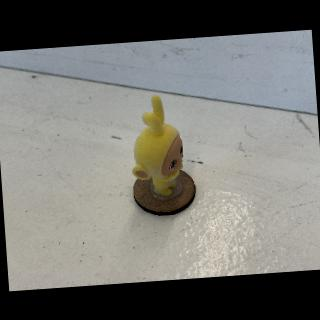teletubby: (132, 95, 183, 196)
